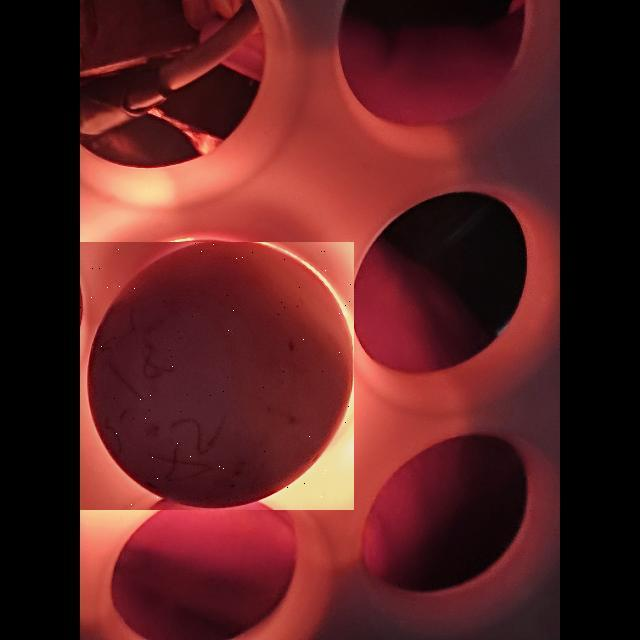A - Good: (81, 238, 352, 507)
